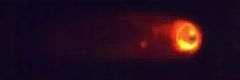keyhole: (184, 31, 197, 45)
